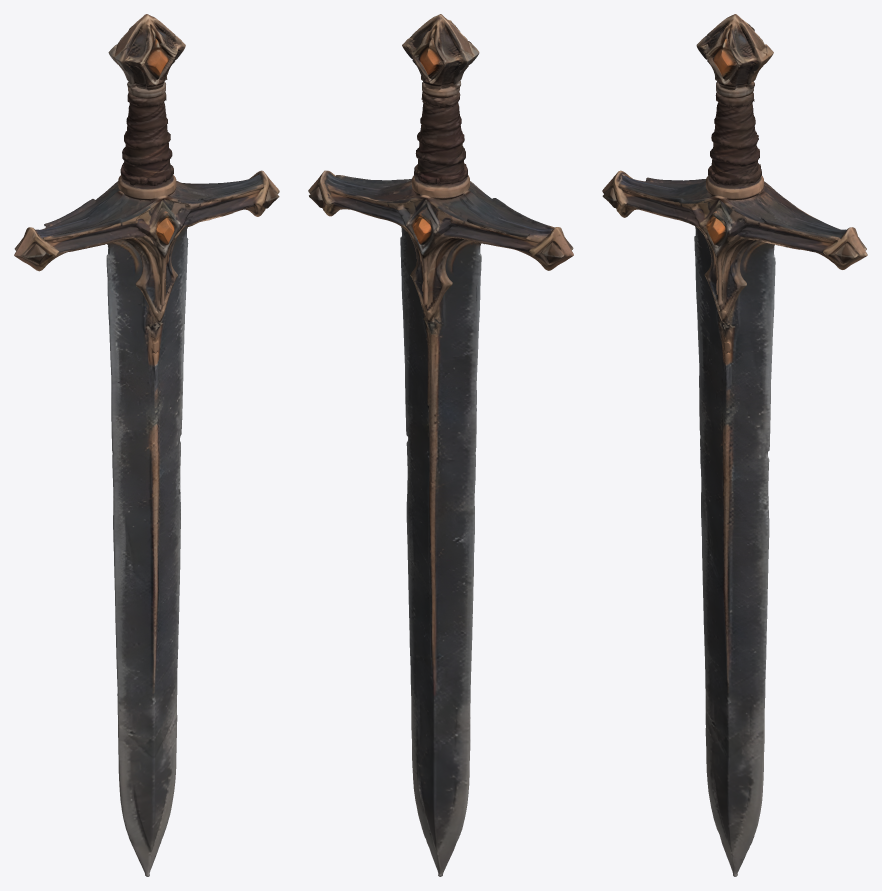
The model's file is sword-r1.glb.
3 views of the same model, side by side, from view 1: azimuth 30°, elevation 25°; view 2: azimuth 150°, elevation 25°; view 3: azimuth 330°, elevation 25° (orthographic).
Visible parts, largest first — view 1: tripo_node_5b11772d-76b9-4437-9817-e8c5ae7b0ba0; view 2: tripo_node_5b11772d-76b9-4437-9817-e8c5ae7b0ba0; view 3: tripo_node_5b11772d-76b9-4437-9817-e8c5ae7b0ba0.
Boxes of the visible parts, x1,y1,x2,y2 form: tripo_node_5b11772d-76b9-4437-9817-e8c5ae7b0ba0: [14, 14, 279, 876]; tripo_node_5b11772d-76b9-4437-9817-e8c5ae7b0ba0: [308, 14, 573, 876]; tripo_node_5b11772d-76b9-4437-9817-e8c5ae7b0ba0: [602, 14, 867, 876].
Bounding box in the file's own units: 0.3181 × 0.9872 × 0.0917.
1 material, 1 textured.
